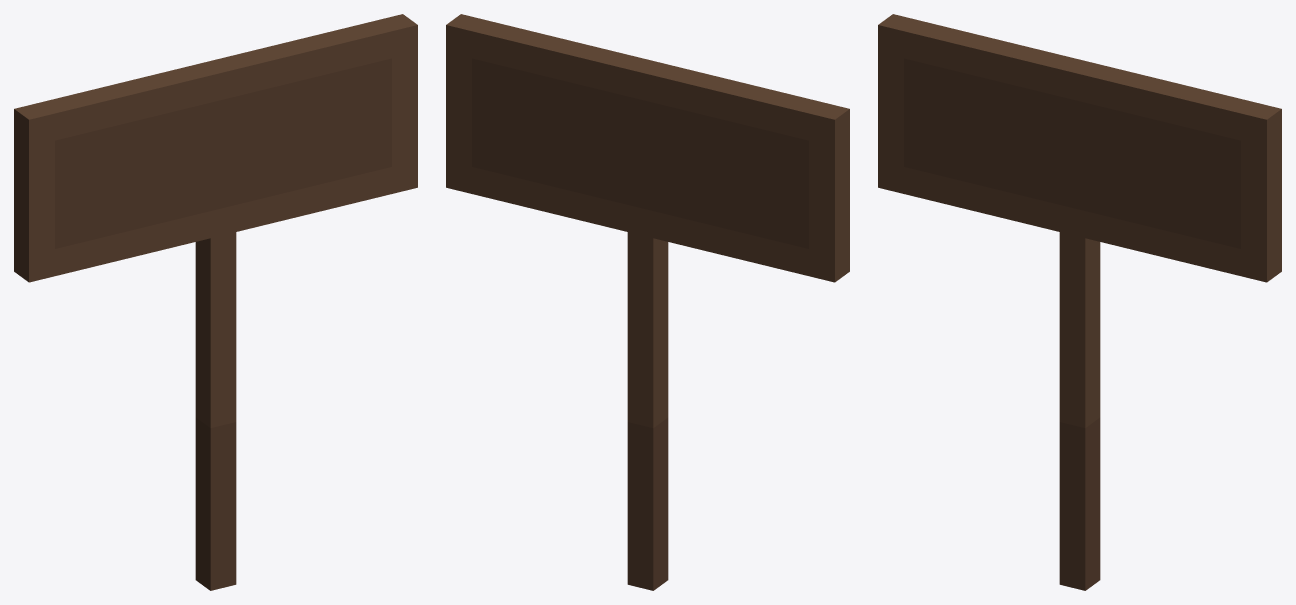
The model's file is ConstructionMaterials-102.obj.
3 renders of one model, left to right at view 1: azimuth 30°, elevation 25°; view 2: azimuth 150°, elevation 25°; view 3: azimuth 330°, elevation 25°, orthographic.
Size of the model in its own units: 1.5 by 1.9 by 0.1.
Materials: 1 (1 with a texture image).
